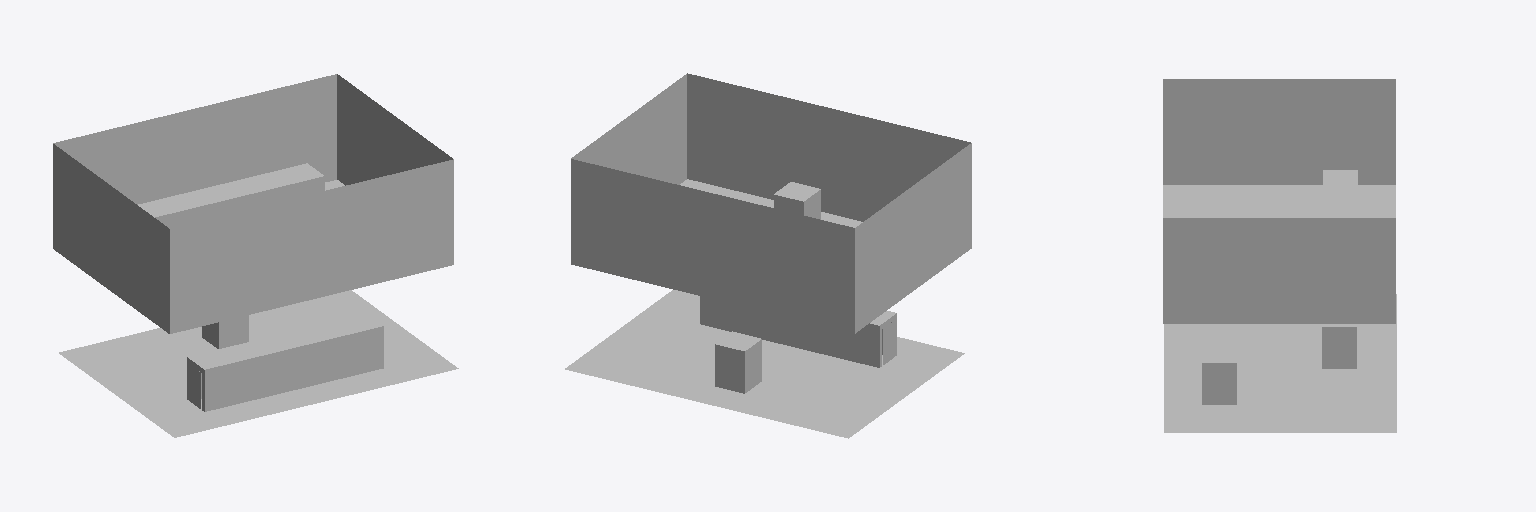
The picture shows the model from 3 angles: view 1: azimuth 30°, elevation 25°; view 2: azimuth 150°, elevation 25°; view 3: azimuth 270°, elevation 25°; orthographic projection.
Visible parts, largest first — view 1: Cube_Mesh, Cube.005_Mesh, Cube.003_Mesh, Cube.002_Mesh, Cube.004_Mesh; view 2: Cube_Mesh, Cube.005_Mesh, Cube.003_Mesh, Cube.004_Mesh, Cube.001_Mesh; view 3: Cube_Mesh, Cube.005_Mesh, Cube.003_Mesh, Cube.002_Mesh, Portal.005_Mesh, Portal.006_Mesh, Cube.004_Mesh.
Boxes of the visible parts, x1=… form: Cube_Mesh: x1=53, y1=74, x2=453, y2=333; Cube.005_Mesh: x1=59, y1=290, x2=458, y2=437; Cube.003_Mesh: x1=187, y1=313, x2=383, y2=411; Cube.002_Mesh: x1=138, y1=163, x2=324, y2=228; Cube.004_Mesh: x1=202, y1=315, x2=248, y2=348; Cube_Mesh: x1=571, y1=73, x2=971, y2=333; Cube.005_Mesh: x1=565, y1=290, x2=964, y2=438; Cube.003_Mesh: x1=700, y1=296, x2=896, y2=367; Cube.004_Mesh: x1=715, y1=331, x2=761, y2=393; Cube.001_Mesh: x1=774, y1=182, x2=820, y2=219; Cube_Mesh: x1=1163, y1=79, x2=1395, y2=323; Cube.005_Mesh: x1=1164, y1=294, x2=1396, y2=432; Cube.003_Mesh: x1=1202, y1=324, x2=1236, y2=404; Cube.002_Mesh: x1=1323, y1=170, x2=1357, y2=217; Portal.005_Mesh: x1=1208, y1=368, x2=1231, y2=404; Portal.006_Mesh: x1=1328, y1=332, x2=1351, y2=368; Cube.004_Mesh: x1=1322, y1=324, x2=1356, y2=368.
Bounding box in the file's own units: 28.72 × 20 × 20.13.